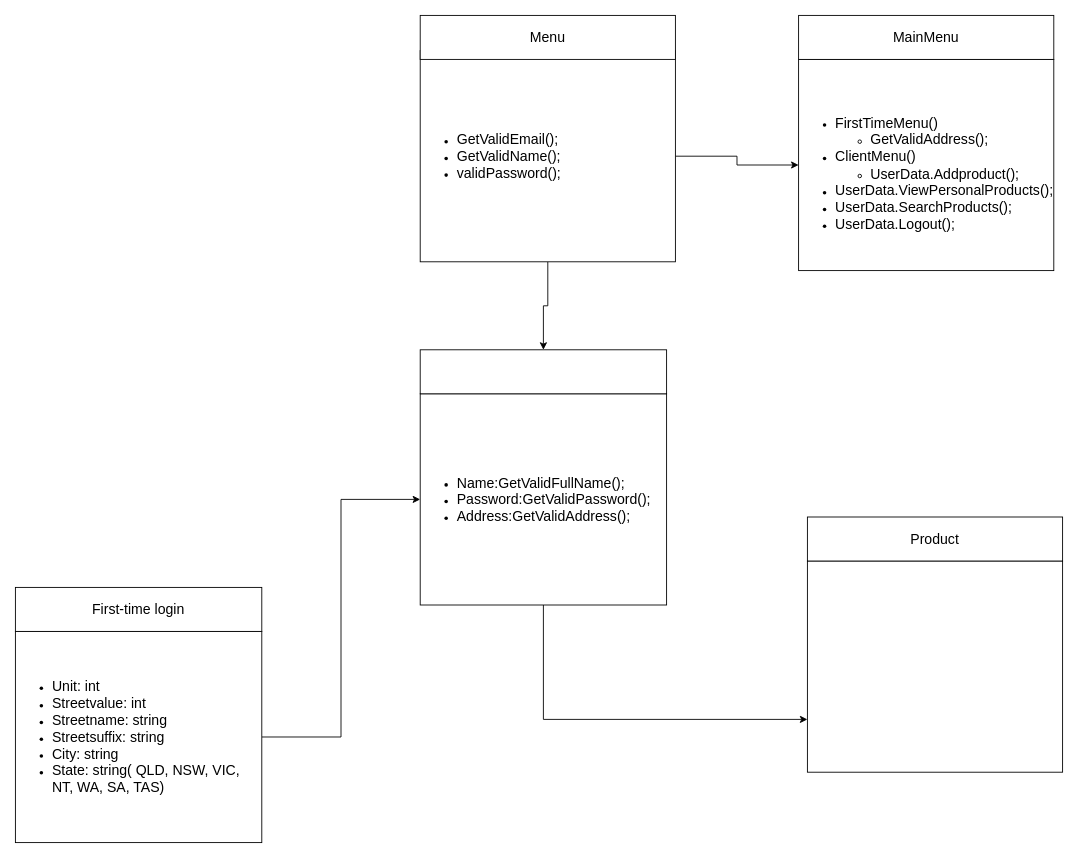
This 1078x858 diagram has some shape labels left out. Each missing label, with the centre of its shape:
Client: point 543,371
Name: Productname(); Description: ProductDescription(); Price: ProductPrice();: point 935,666
